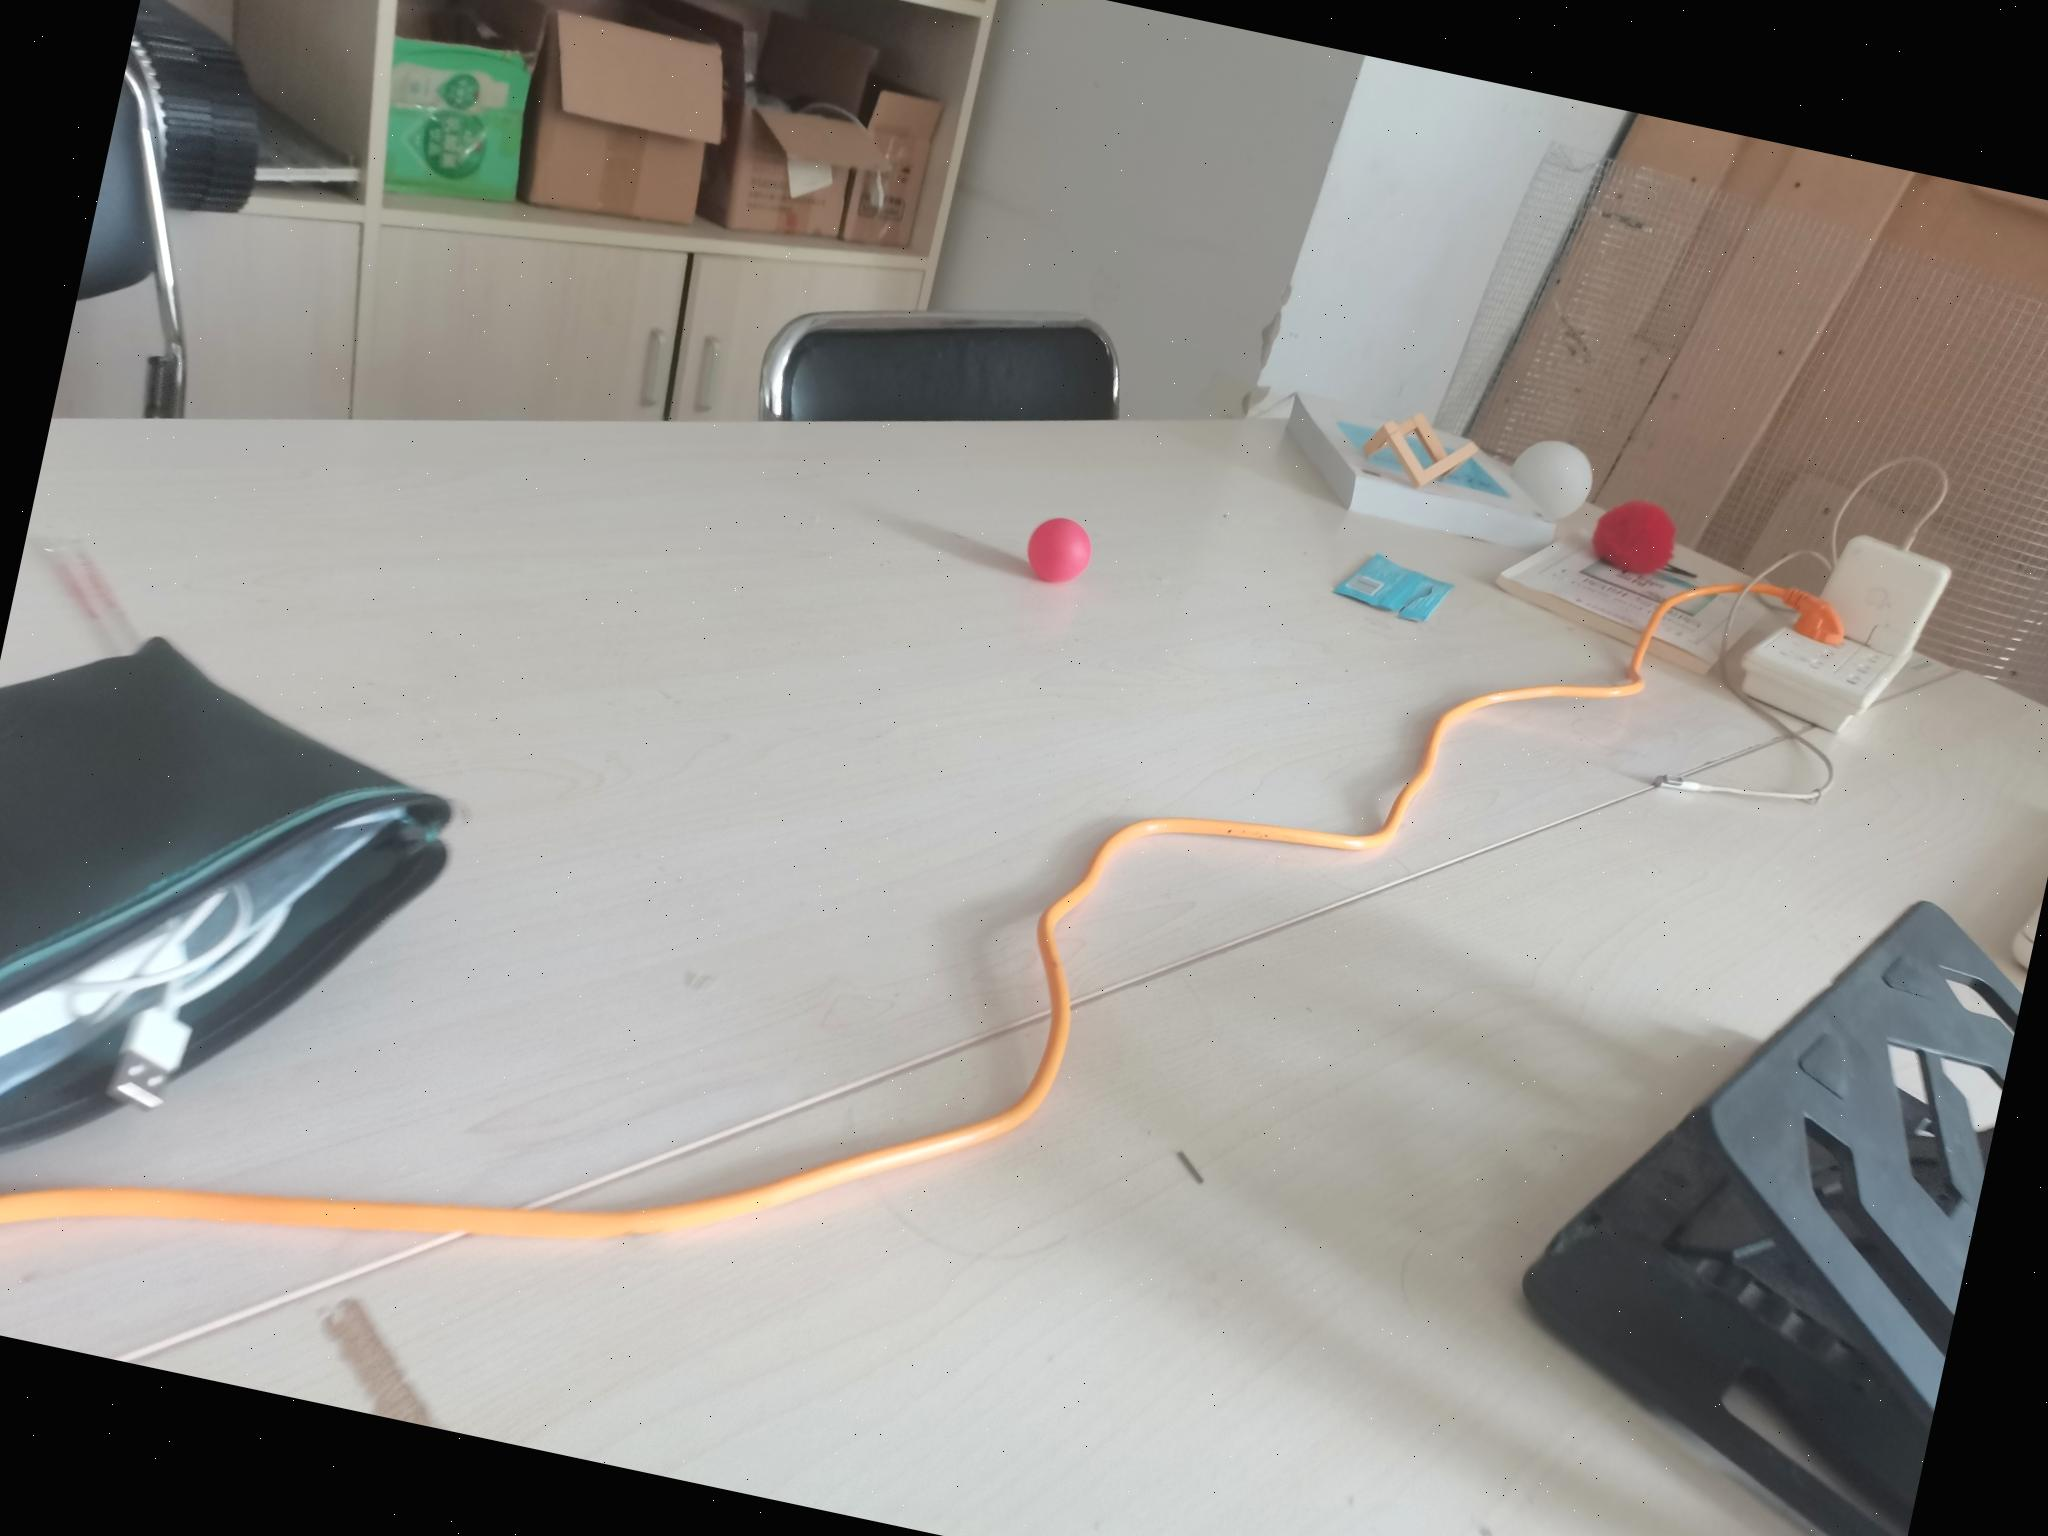ball: (1019, 513, 1101, 589)
